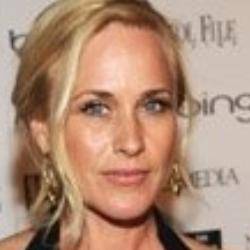face: (5, 1, 199, 228)
